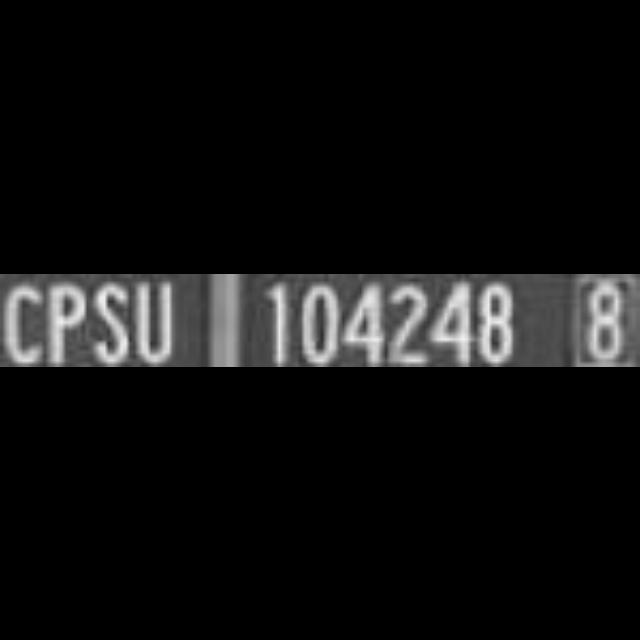0: (296, 274, 338, 366)
1: (257, 274, 291, 366)
2: (387, 274, 429, 366)
4: (428, 274, 476, 366), (341, 275, 385, 367)
8: (476, 274, 518, 366), (583, 280, 627, 364)
c: (0, 278, 46, 366)
p: (44, 274, 92, 366)
s: (92, 274, 134, 366)
u: (132, 274, 180, 366)
